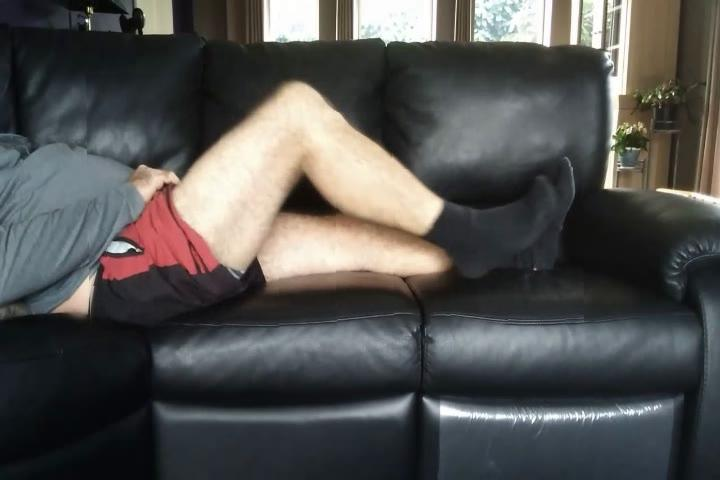lowerbody: (88, 68, 584, 329)
